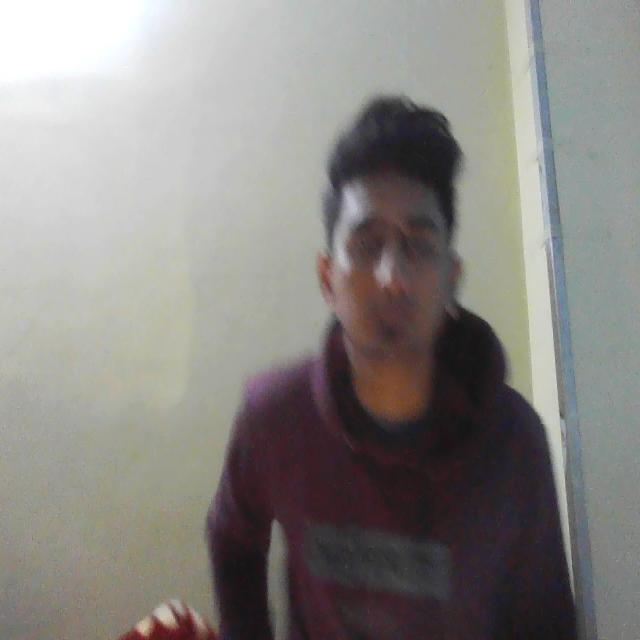real: (320, 104, 471, 389)
